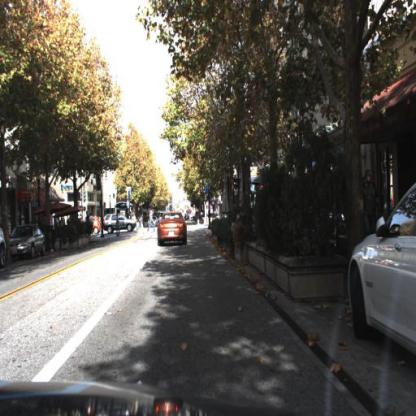car: (348, 184, 416, 361), (5, 220, 48, 265), (9, 226, 46, 264), (159, 213, 188, 249), (104, 213, 137, 233)
pedestrian: (362, 169, 379, 238), (147, 209, 156, 234), (115, 212, 123, 240), (138, 212, 146, 236), (148, 209, 155, 231), (117, 216, 122, 239)
